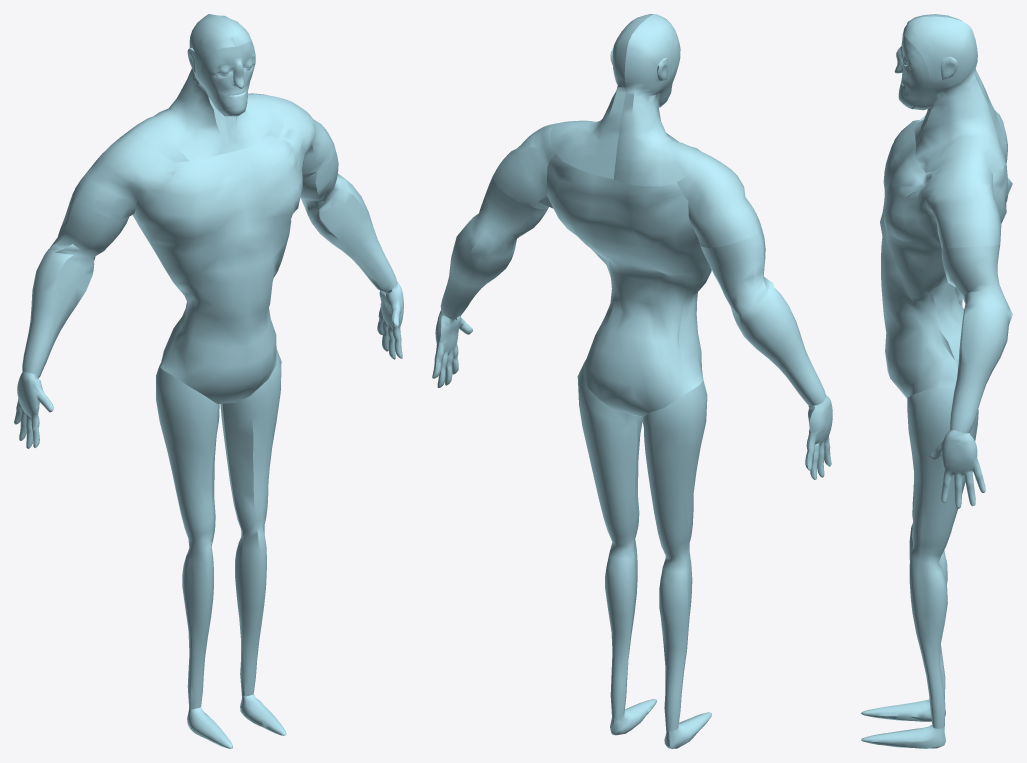
3 renders of one model, left to right at view 1: azimuth 30°, elevation 25°; view 2: azimuth 150°, elevation 25°; view 3: azimuth 270°, elevation 25°, orthographic. The views are drawn at different scales.
Parts seen in each view (by area): view 1: split_parent_0; view 2: split_parent_0; view 3: split_parent_0.
Boxes of the visible parts, x1,y1,x2,y2 form: split_parent_0: (14, 14, 403, 748); split_parent_0: (432, 14, 832, 748); split_parent_0: (861, 14, 1012, 748).
Size of the model in its own units: 0.5619 by 1 by 0.1918.
